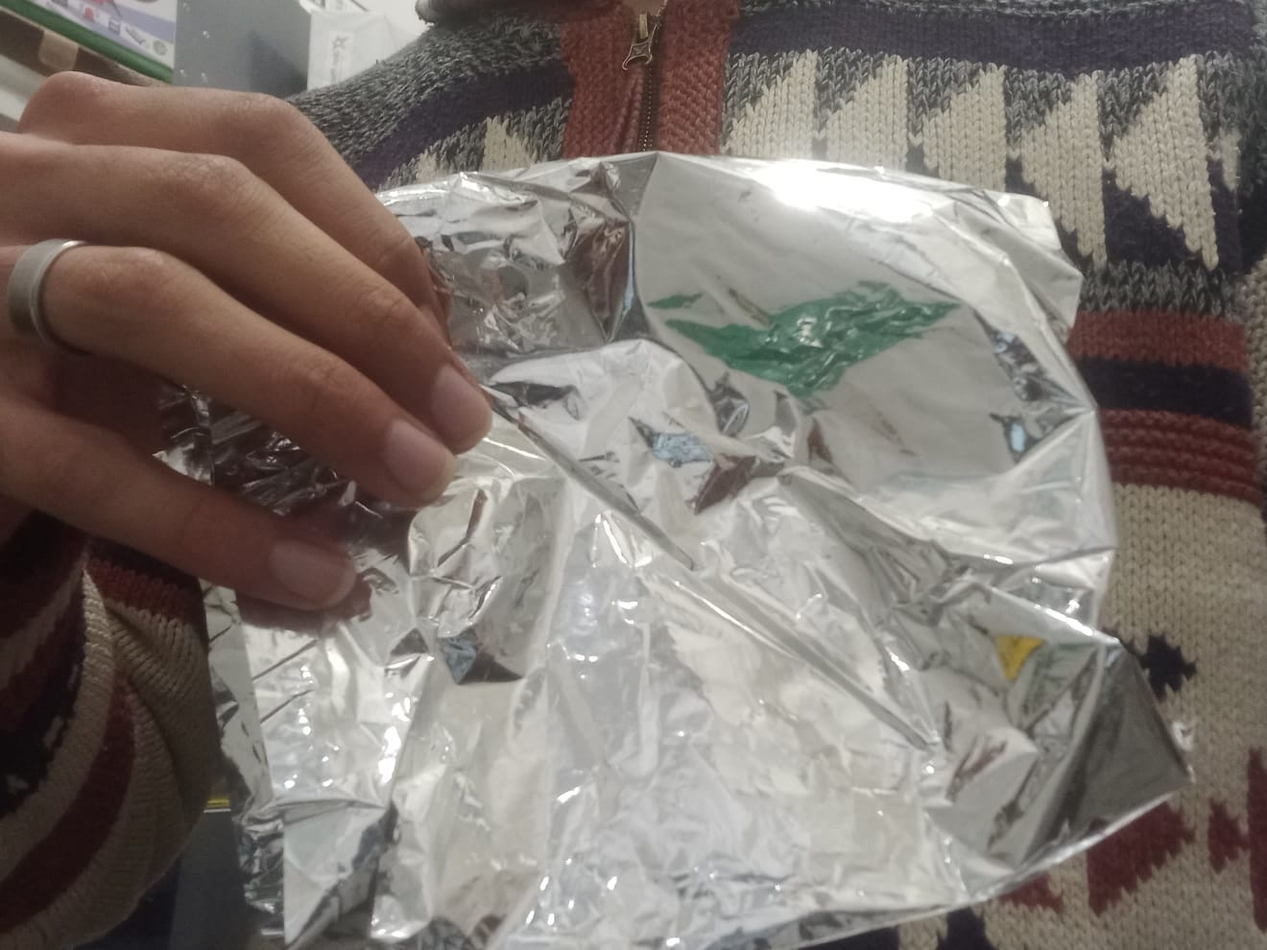Ordinario: (166, 150, 1194, 950)
